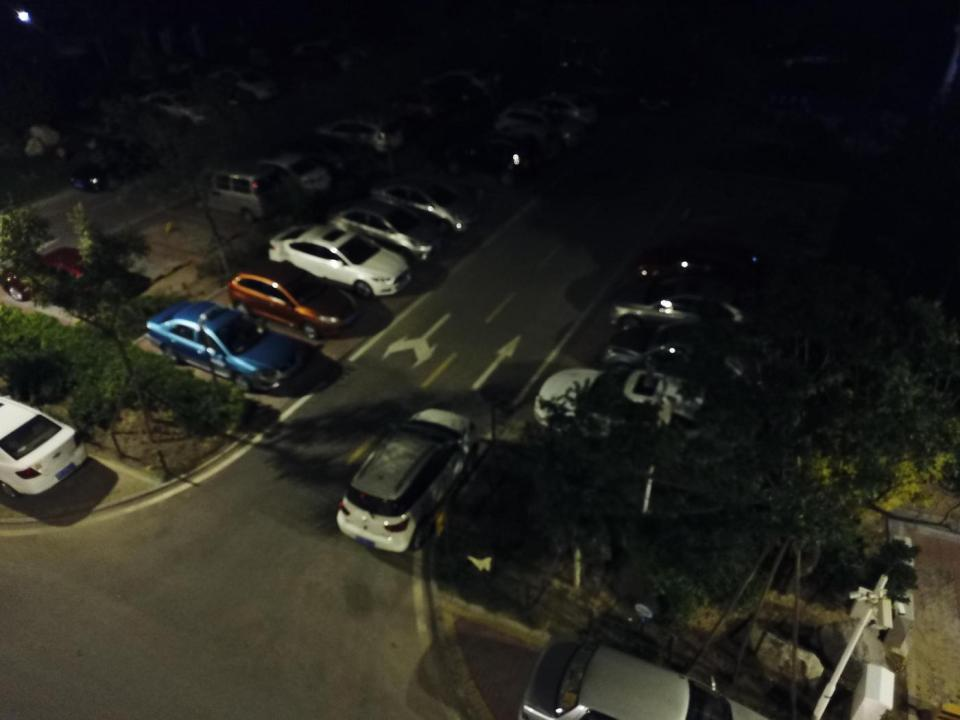car: (334, 407, 479, 554), (518, 640, 780, 720), (533, 364, 729, 444), (146, 299, 302, 392), (606, 321, 782, 395), (268, 220, 414, 300), (0, 246, 139, 322), (226, 261, 359, 340), (0, 394, 89, 498), (608, 276, 758, 336), (326, 200, 449, 266), (635, 244, 768, 294), (370, 178, 481, 234), (435, 134, 542, 184), (71, 136, 159, 192), (493, 103, 583, 146), (248, 150, 331, 196), (316, 114, 404, 154), (140, 86, 220, 128), (212, 65, 280, 102), (530, 89, 598, 125), (424, 66, 500, 94), (294, 38, 358, 70), (389, 87, 446, 120)
van: (194, 161, 284, 222)
